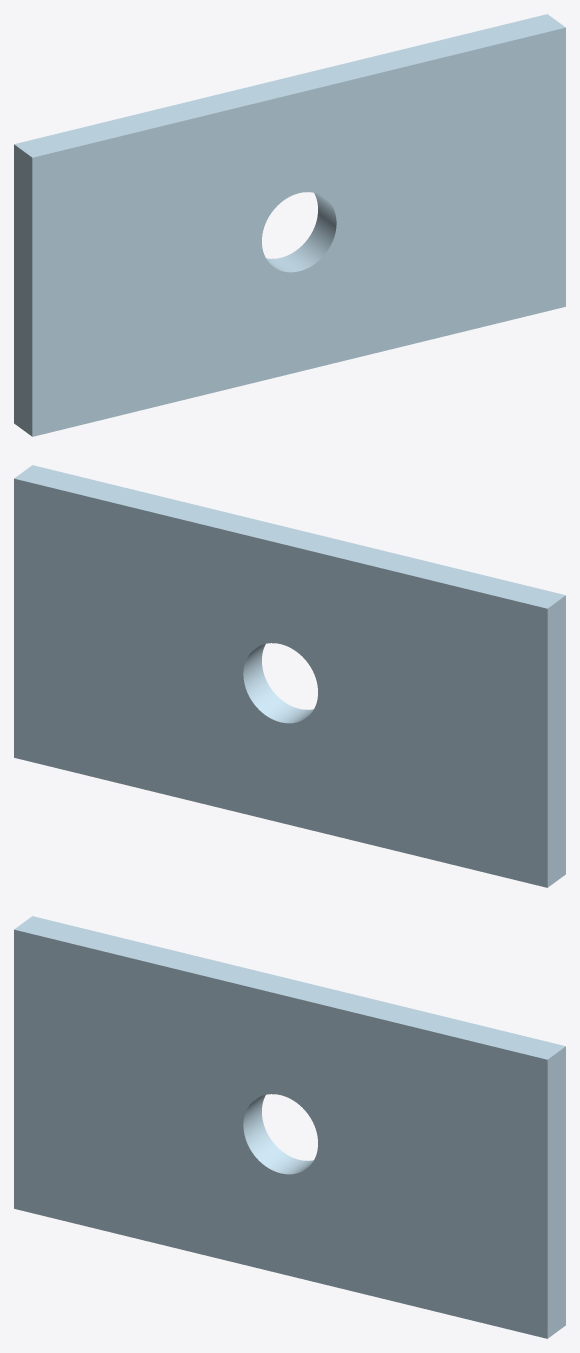
The picture shows the model from 3 angles, top to bottom: view 1: azimuth 30°, elevation 25°; view 2: azimuth 150°, elevation 25°; view 3: azimuth 330°, elevation 25°; orthographic projection.
Visible parts, largest first — view 1: Part 1; view 2: Part 1; view 3: Part 1.
Boxes of the visible parts, bbox=[...] form: Part 1: bbox=[14, 14, 565, 436]; Part 1: bbox=[14, 465, 565, 887]; Part 1: bbox=[14, 916, 565, 1338].
Bounding box in the file's own units: 0.1 × 0.05 × 0.006.
